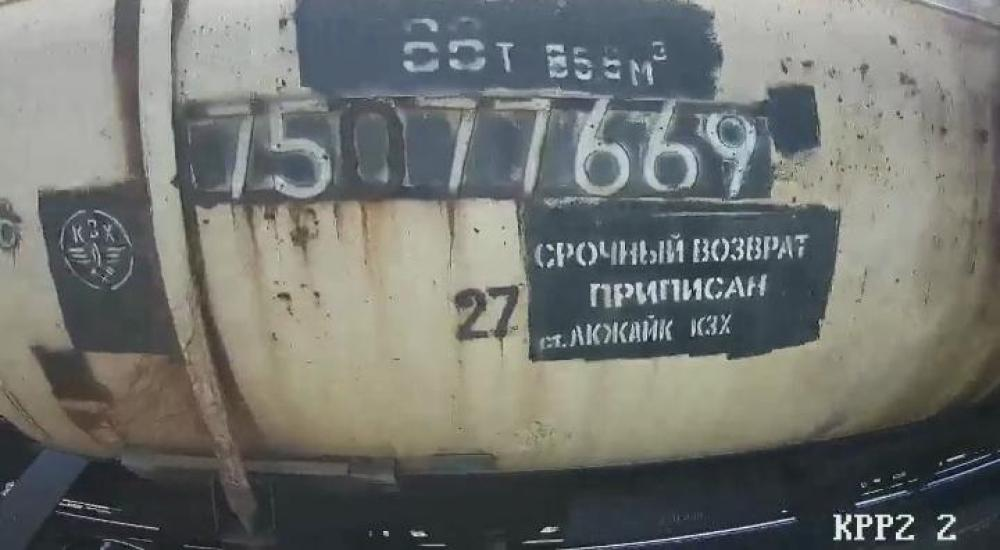Wagon-number: (201, 94, 768, 207)
